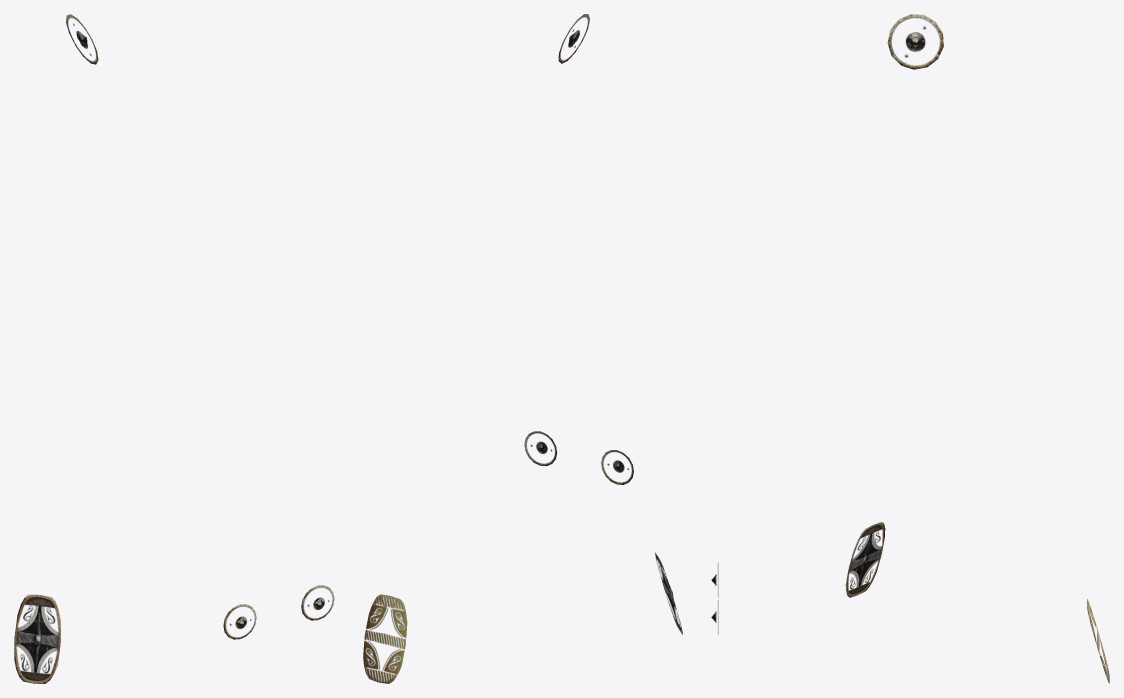
The model's file is iber_scout_tower.glb.
3 renders of one model, left to right at view 1: azimuth 30°, elevation 25°; view 2: azimuth 150°, elevation 25°; view 3: azimuth 270°, elevation 25°, orthographic. The views are drawn at different scales.
Visible parts, largest first — view 1: towershield05; view 2: towershield05; view 3: towershield05.
Part boxes in pixels (x1=…): towershield05: x1=14, y1=14, x2=334, y2=683; towershield05: x1=363, y1=14, x2=682, y2=683; towershield05: x1=711, y1=14, x2=1109, y2=683.
Bounding box in the file's own units: 8.14 × 20.46 × 12.01.
1 material, 1 textured.
